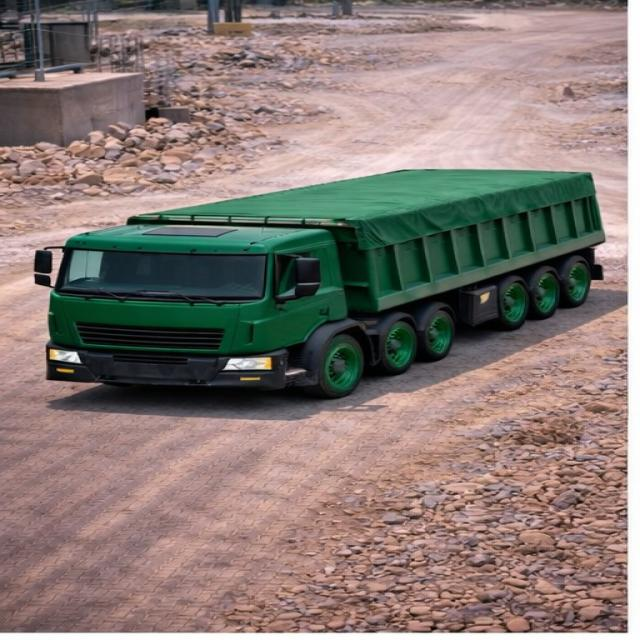Box: (122, 168, 593, 228)
Truck: (29, 158, 610, 398)
